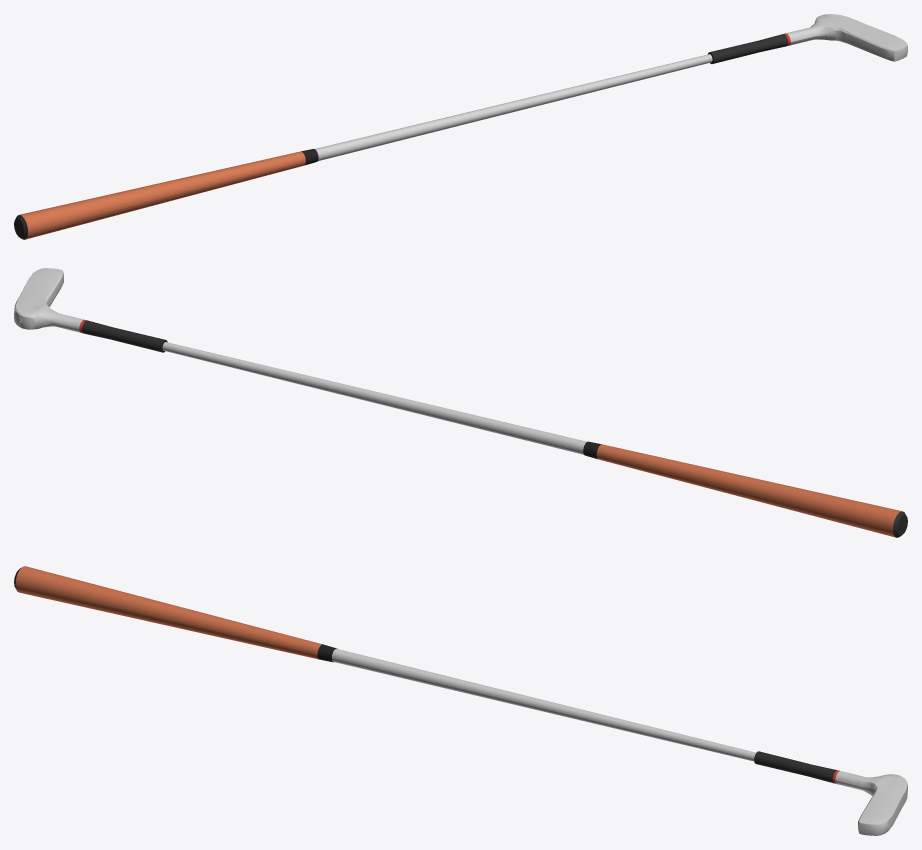
Rendered from putter.fbx.
3 views of the same model, one above another, from view 1: azimuth 30°, elevation 25°; view 2: azimuth 150°, elevation 25°; view 3: azimuth 330°, elevation 25° (orthographic). The views are drawn at different scales.
Parts seen in each view (by area): view 1: Cylinder; view 2: Cylinder; view 3: Cylinder.
Part boxes in pixels (box(x1,y1,x2,y2)): Cylinder: box(14, 14, 907, 239); Cylinder: box(14, 268, 907, 537); Cylinder: box(14, 566, 907, 835).
Size of the model in its own units: 178 by 4.66 by 20.02.
